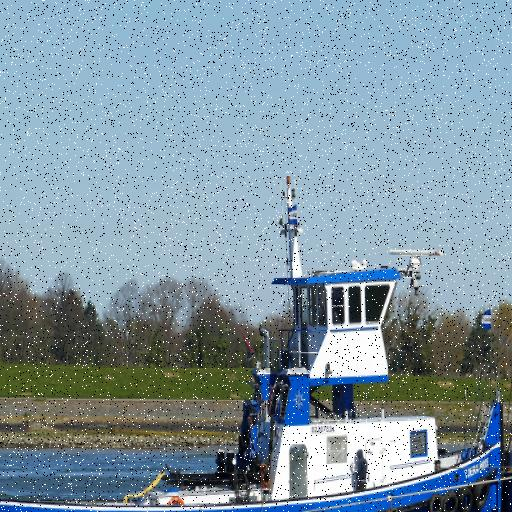tugboat: (1, 172, 506, 512)
